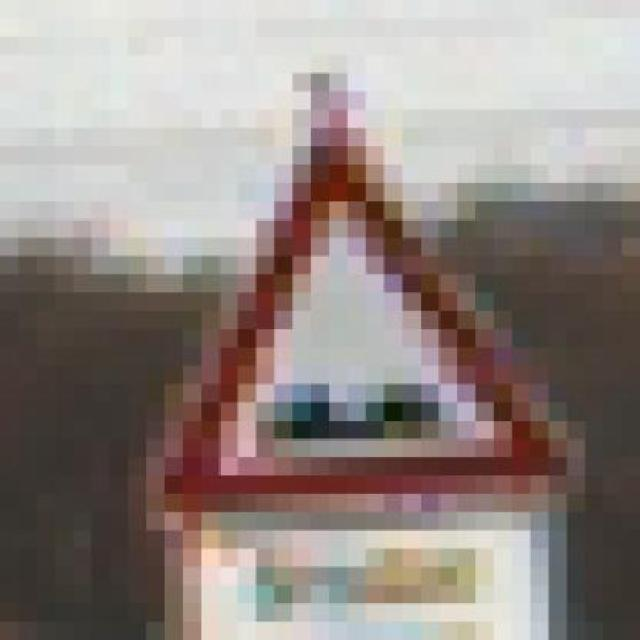Uneven Road: (108, 126, 584, 511)
